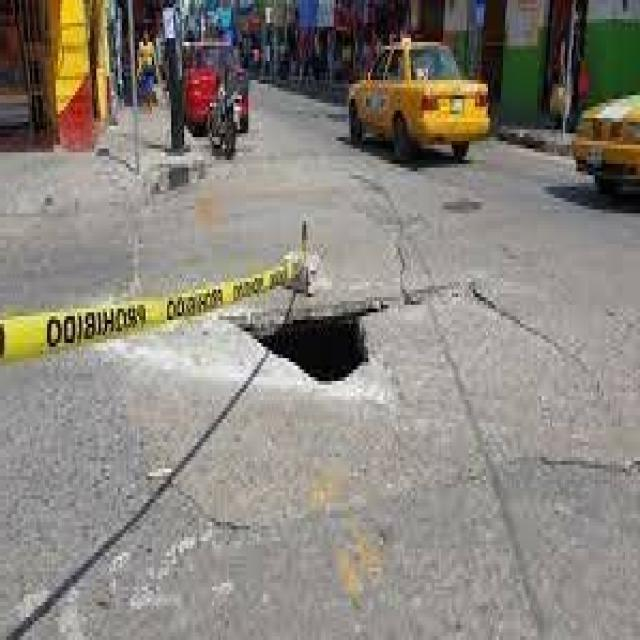pothole: (158, 233, 426, 458)
